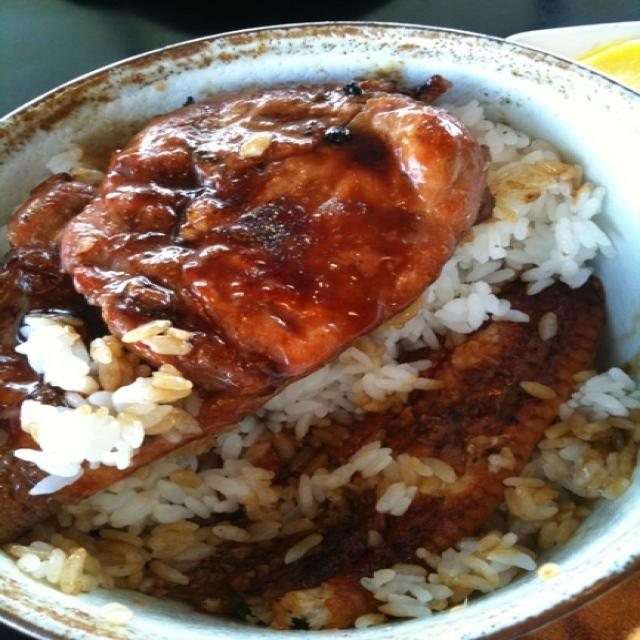熟制海鲜: (24, 23, 625, 608)
